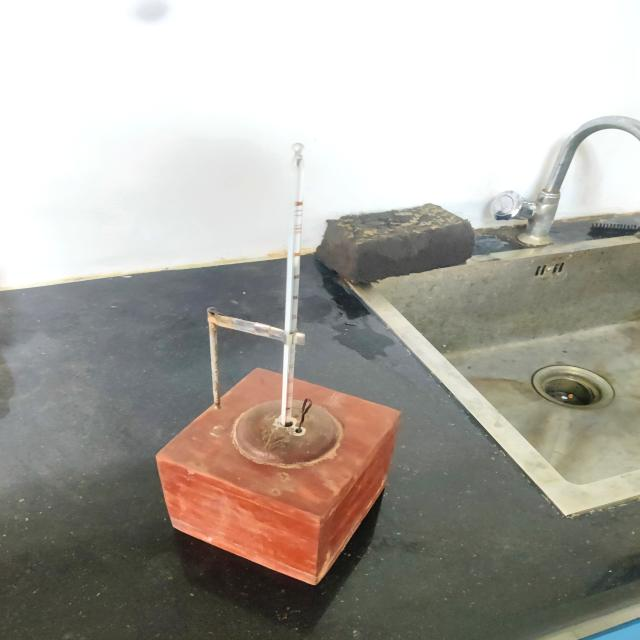Calorimeter: (115, 118, 450, 624)
